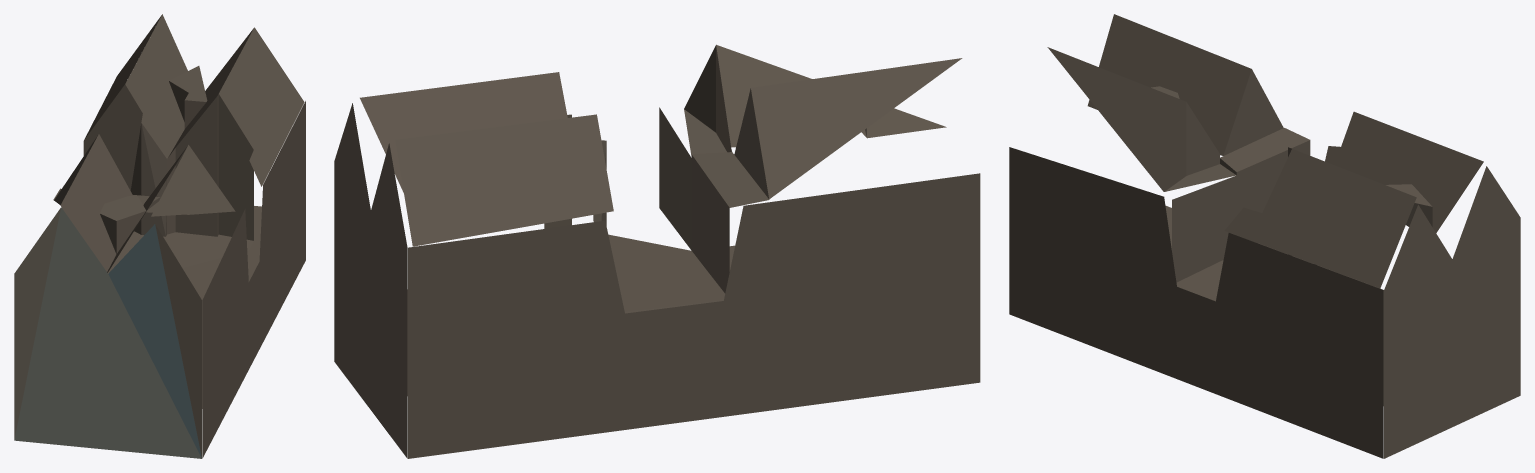
The picture shows the model from 3 angles, left to right: view 1: azimuth 30°, elevation 25°; view 2: azimuth 150°, elevation 25°; view 3: azimuth 270°, elevation 25°; orthographic projection. The views are drawn at different scales.
Visible parts, largest first — view 1: lod2; view 2: lod2; view 3: lod2.
Part boxes in pixels (x1,y1,x2,y2): lod2: (14, 14, 305, 458); lod2: (334, 44, 980, 458); lod2: (1009, 14, 1520, 458).
Size of the model in its own units: 27.61 by 15.68 by 28.75.
